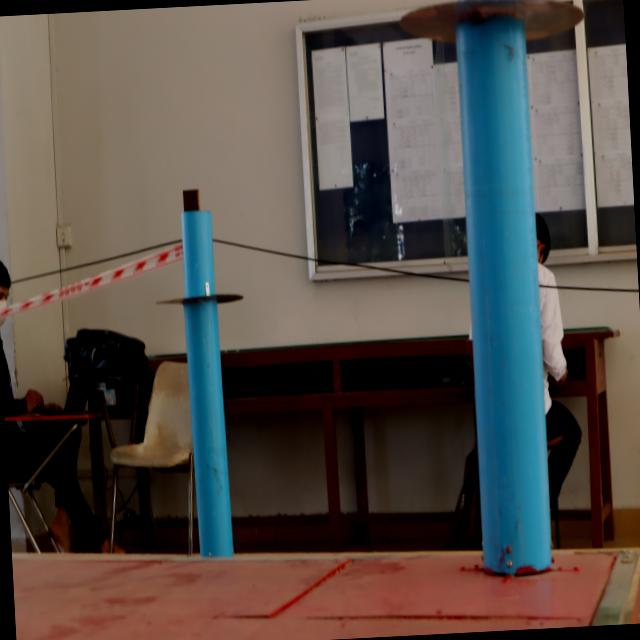pole: (389, 0, 599, 157), (139, 196, 261, 382)
